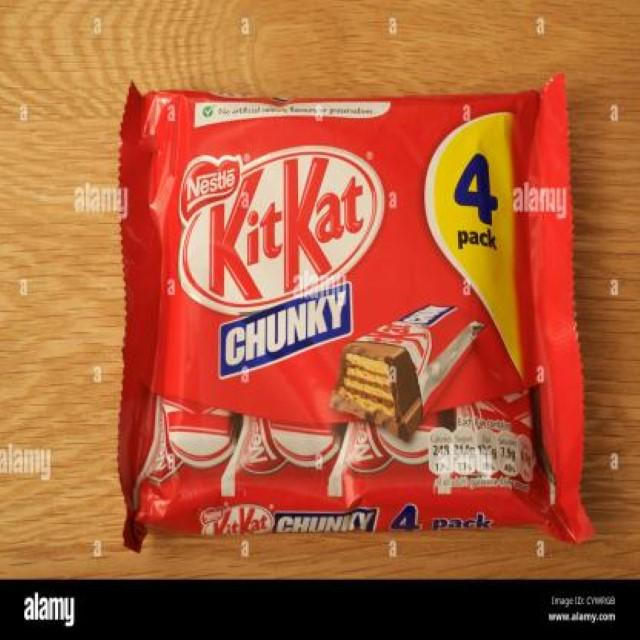kitkat_chocolate: (135, 111, 595, 522)
